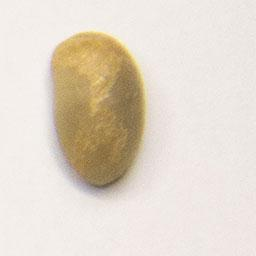longberry: (46, 27, 149, 192)
